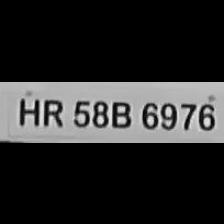5: (68, 96, 92, 128)
6: (138, 96, 160, 130), (195, 100, 215, 132)
7: (177, 99, 195, 131)
8: (89, 96, 107, 128)
9: (158, 98, 176, 130)
B: (107, 96, 132, 128)
H: (12, 93, 40, 127)
R: (39, 94, 65, 128)
